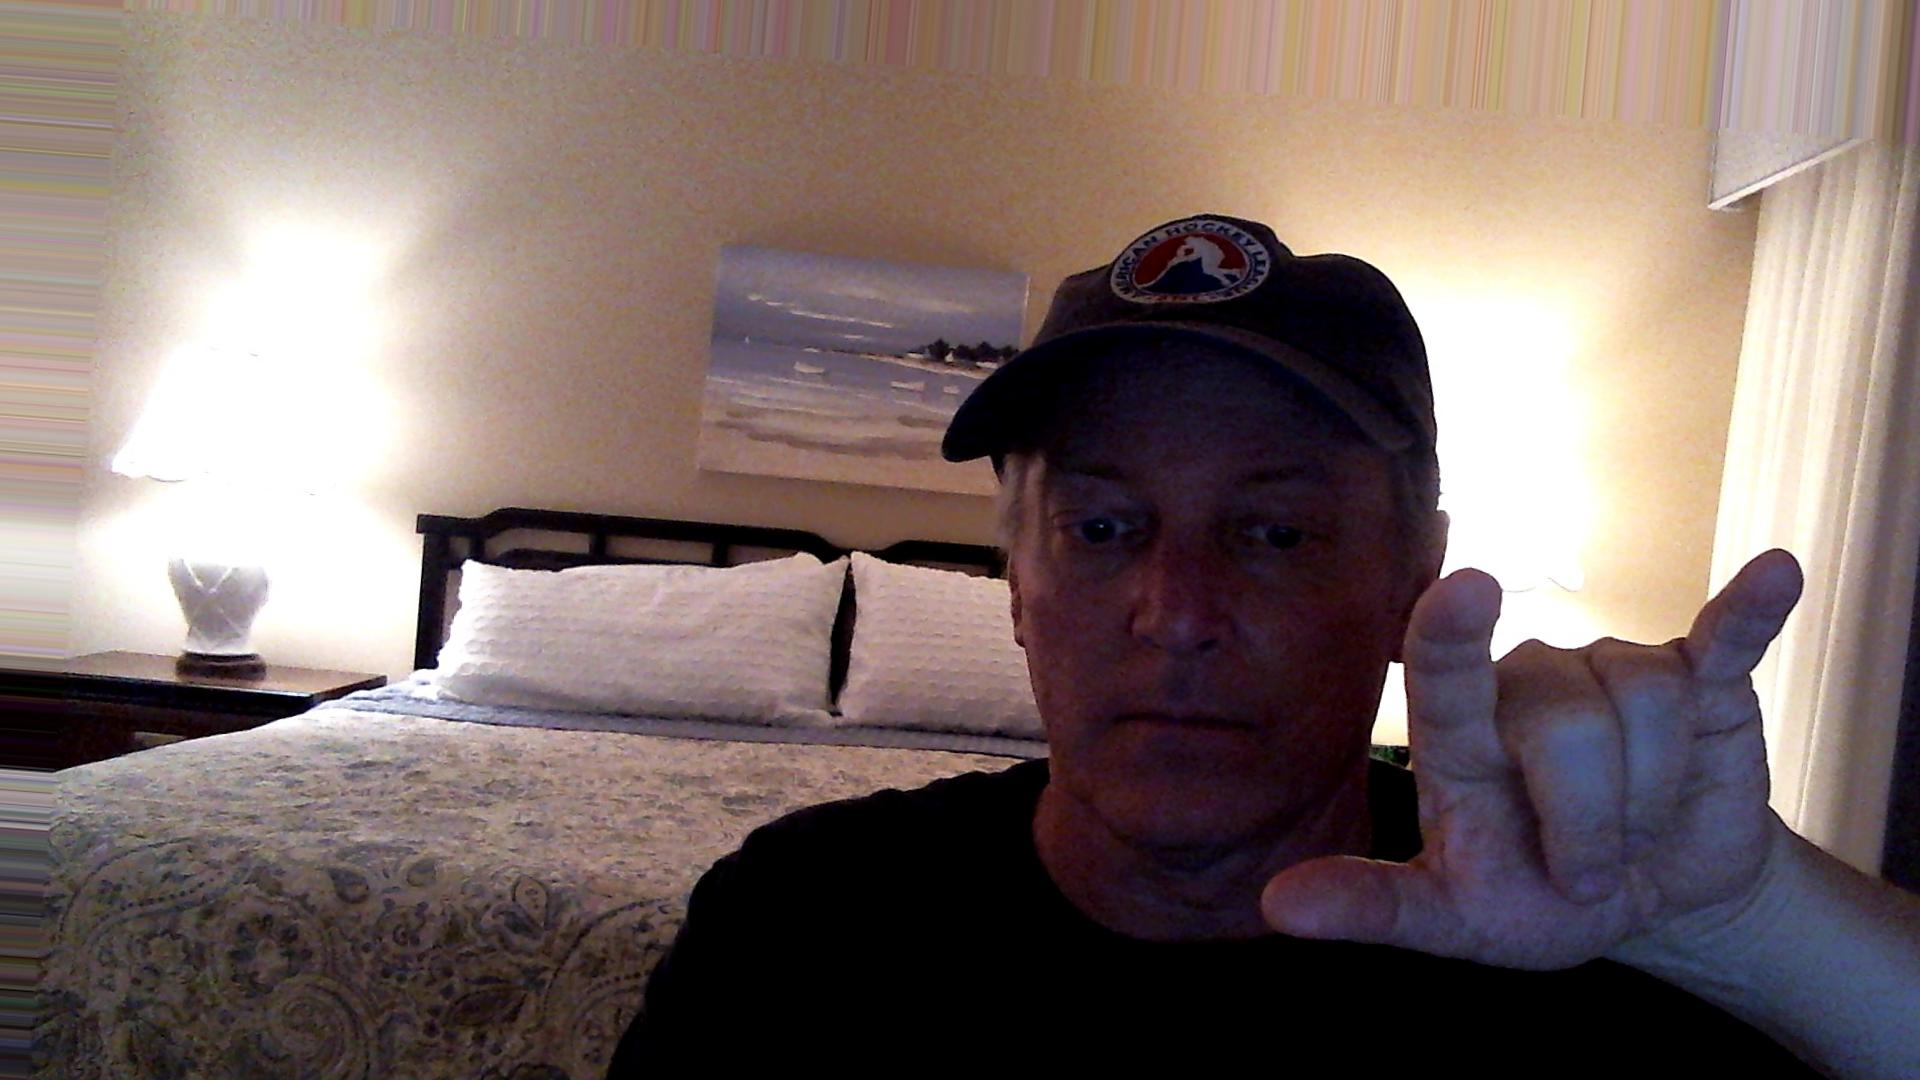I Love You: (1245, 537, 1815, 985)
